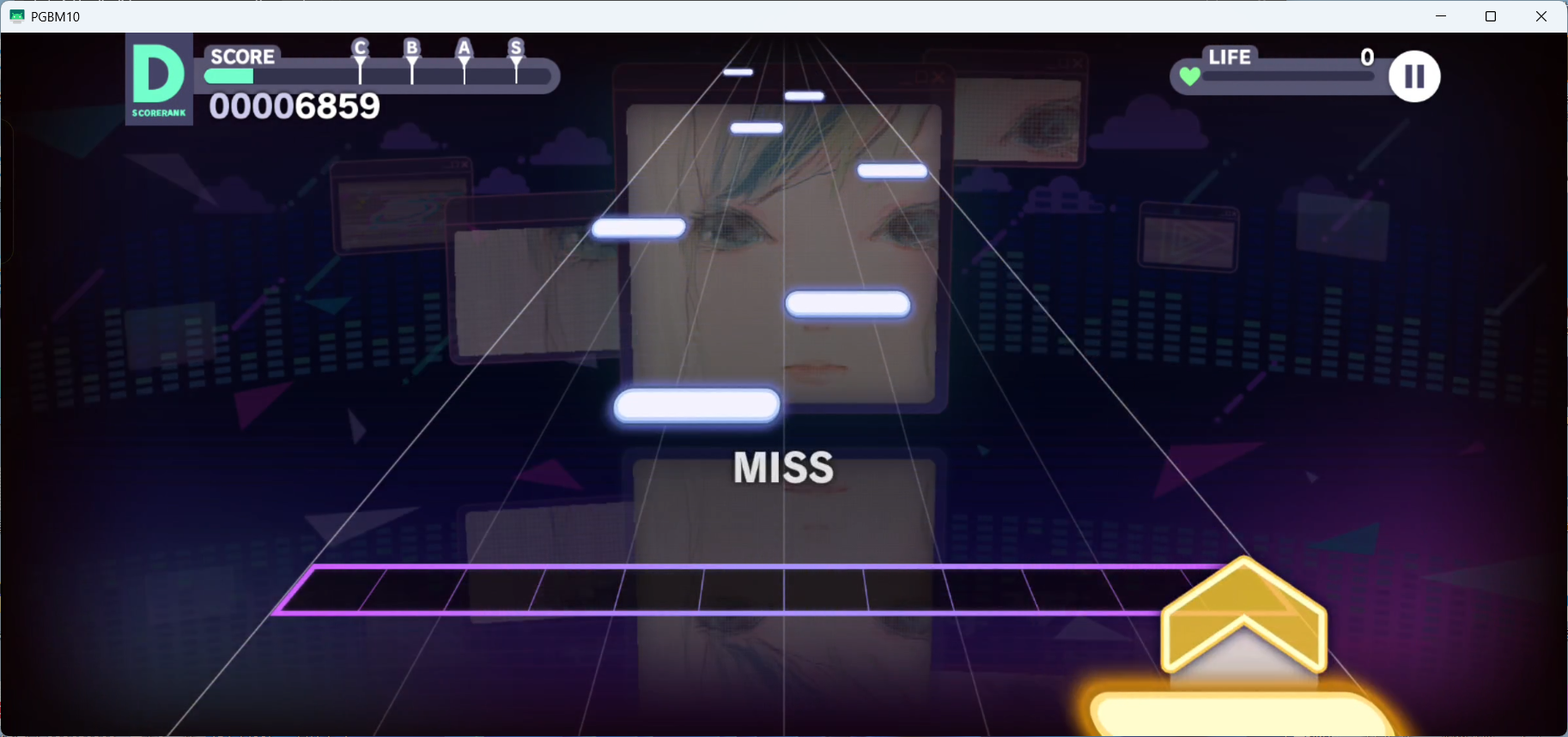flick: (1162, 553, 1331, 692)
tap: (1088, 692, 1396, 737), (613, 389, 779, 425), (784, 291, 911, 317), (592, 219, 686, 238), (858, 163, 927, 178), (730, 122, 782, 132), (784, 91, 824, 100), (722, 68, 752, 76)
